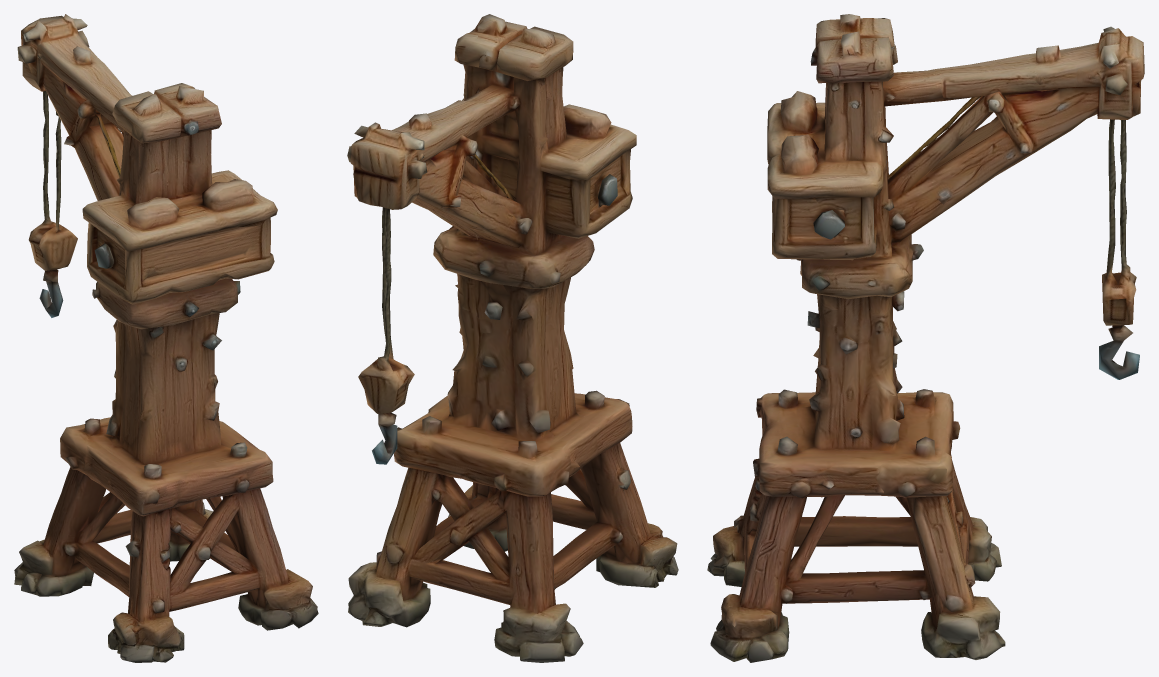
Rendered from dock-crane.glb.
The picture shows the model from 3 angles, left to right: view 1: azimuth 30°, elevation 25°; view 2: azimuth 150°, elevation 25°; view 3: azimuth 270°, elevation 25°; orthographic projection. The views are drawn at different scales.
Parts seen in each view (by area): view 1: tripo_node_c8acf31d-1a4f-4b17-9134-6b4e81869dcc; view 2: tripo_node_c8acf31d-1a4f-4b17-9134-6b4e81869dcc; view 3: tripo_node_c8acf31d-1a4f-4b17-9134-6b4e81869dcc.
Boxes of the visible parts, bbox=[...] form: tripo_node_c8acf31d-1a4f-4b17-9134-6b4e81869dcc: bbox=[14, 14, 318, 662]; tripo_node_c8acf31d-1a4f-4b17-9134-6b4e81869dcc: bbox=[347, 14, 678, 662]; tripo_node_c8acf31d-1a4f-4b17-9134-6b4e81869dcc: bbox=[707, 14, 1144, 662].
Bounding box in the file's own units: 3.3 × 8 × 5.43.
Materials: 1 (1 with a texture image).
